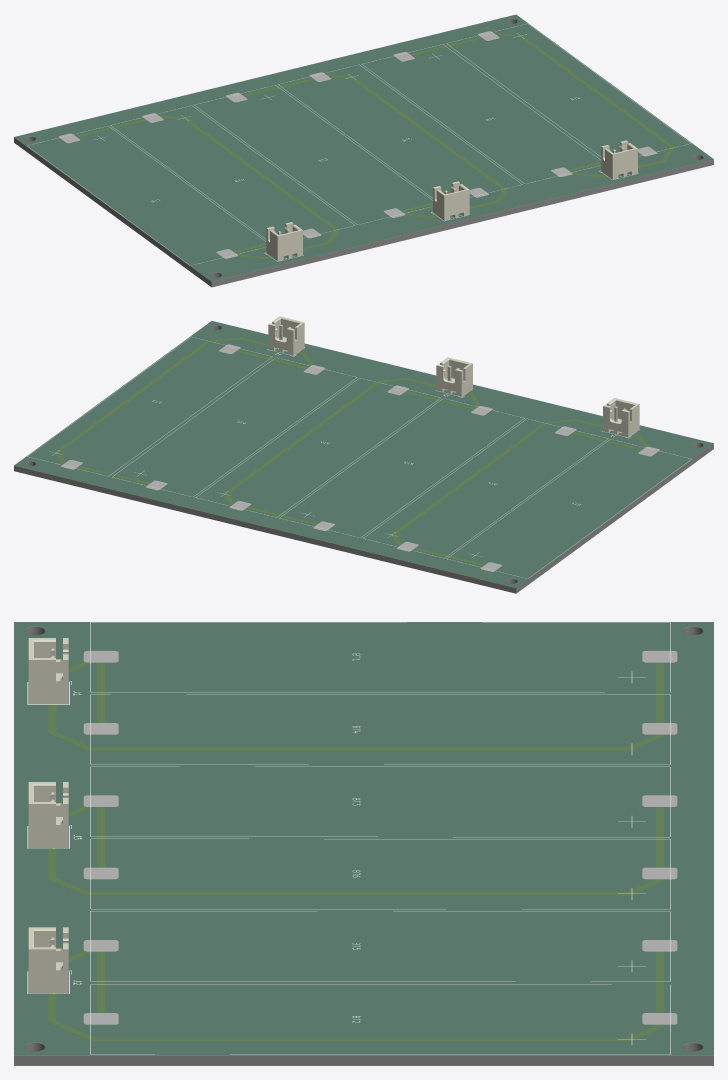
The model's file is STM32 RC AUTO BATTERY PACK.glb.
3 views of the same model, one above another, from view 1: azimuth 30°, elevation 25°; view 2: azimuth 150°, elevation 25°; view 3: azimuth 270°, elevation 25° (orthographic). The views are drawn at different scales.
Parts seen in each view (by area): view 1: =>[0:1:1:6], =>[0:1:1:7], =>[0:1:1:5], =>[0:1:1:3], =>[0:1:1:4], J3, J1, J2; view 2: =>[0:1:1:6], =>[0:1:1:7], =>[0:1:1:5], =>[0:1:1:3], =>[0:1:1:4], J2, J3, J1; view 3: =>[0:1:1:6], =>[0:1:1:7], =>[0:1:1:3], =>[0:1:1:5], =>[0:1:1:4], J1, J2, J3.
Boxes of the visible parts, x1,y1,x2,y2 form: =>[0:1:1:6]: (14,14,713,287); =>[0:1:1:7]: (14,15,713,287); =>[0:1:1:5]: (27,23,690,265); =>[0:1:1:3]: (76,33,673,258); =>[0:1:1:4]: (58,31,657,258); J3: (433,181,469,220); J1: (266,222,302,261); J2: (601,140,637,179); =>[0:1:1:6]: (14,321,713,593); =>[0:1:1:7]: (14,321,713,593); =>[0:1:1:5]: (27,336,691,578); =>[0:1:1:3]: (56,338,646,565); =>[0:1:1:4]: (61,344,659,571); J2: (268,316,304,355); J3: (436,357,472,396); J1: (603,398,639,437); =>[0:1:1:6]: (14,622,713,1065); =>[0:1:1:7]: (14,623,713,1065); =>[0:1:1:3]: (49,662,663,1040); =>[0:1:1:5]: (27,622,670,1054); =>[0:1:1:4]: (83,651,677,1024); J1: (28,638,68,704); J2: (28,927,68,993); J3: (28,782,68,847).
Size of the model in its own units: 0.147 by 0.0104 by 0.1003.
